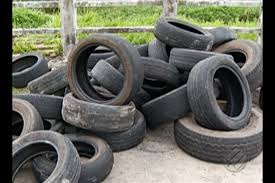tire: (68, 34, 143, 105), (188, 56, 251, 130), (33, 135, 114, 182), (173, 121, 263, 162), (12, 131, 80, 182), (61, 95, 135, 131), (153, 16, 213, 50), (12, 54, 49, 89)
